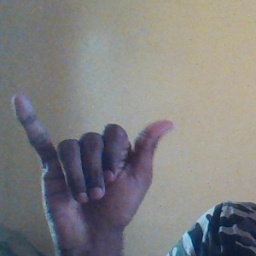J: (11, 91, 175, 230)
